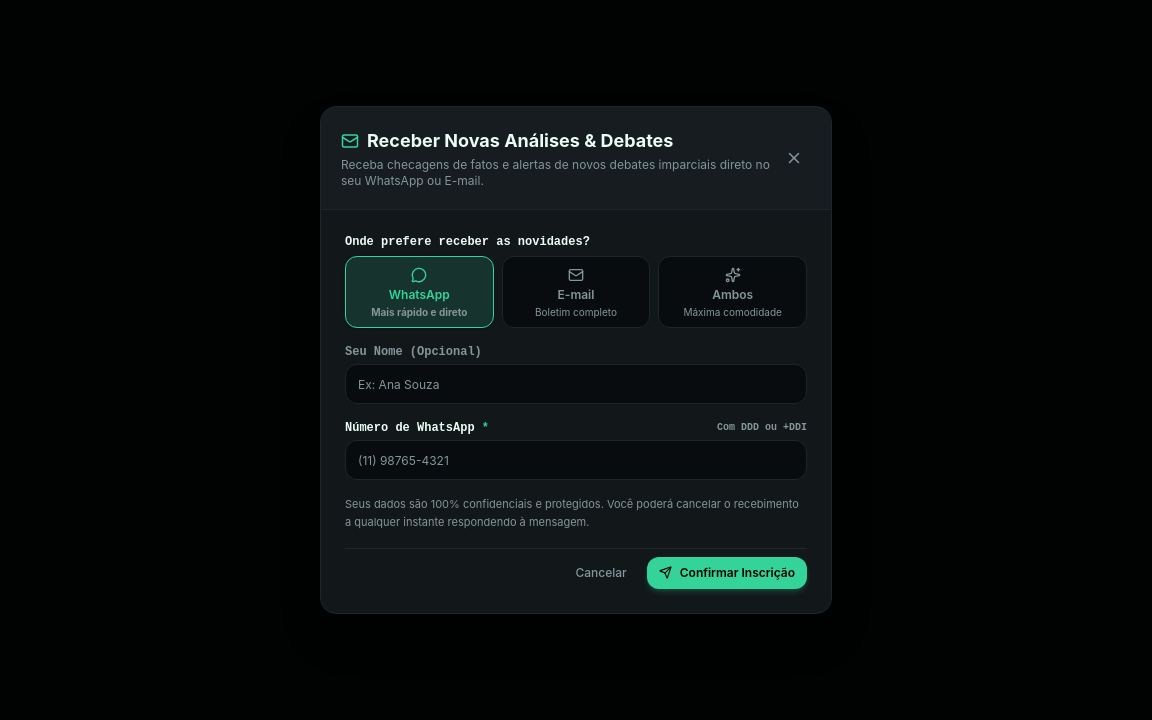
Test: NewsletterModal › submits form successfully and displays success message
Step 1. Type "11999998888" into the field with placeholder "(11) 98765-4321" → (576,460), box [345, 440, 807, 480]
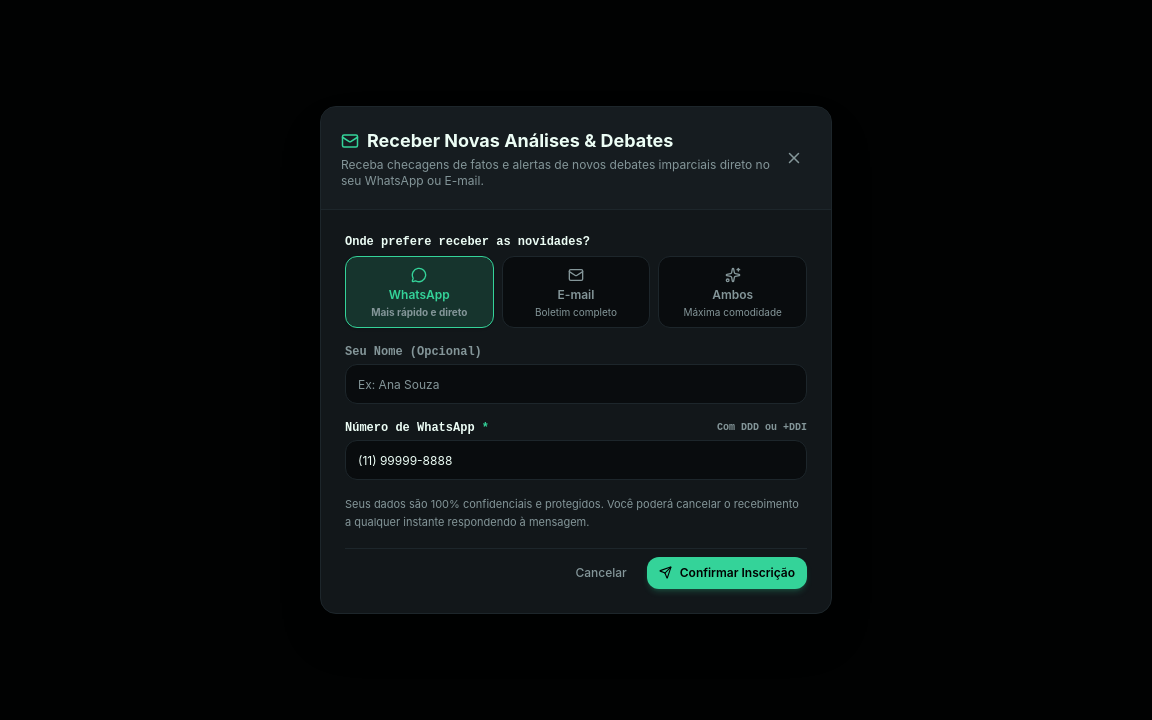
Step 2. Click the button "Confirmar Inscrição" → (727,573), box [647, 557, 807, 589]
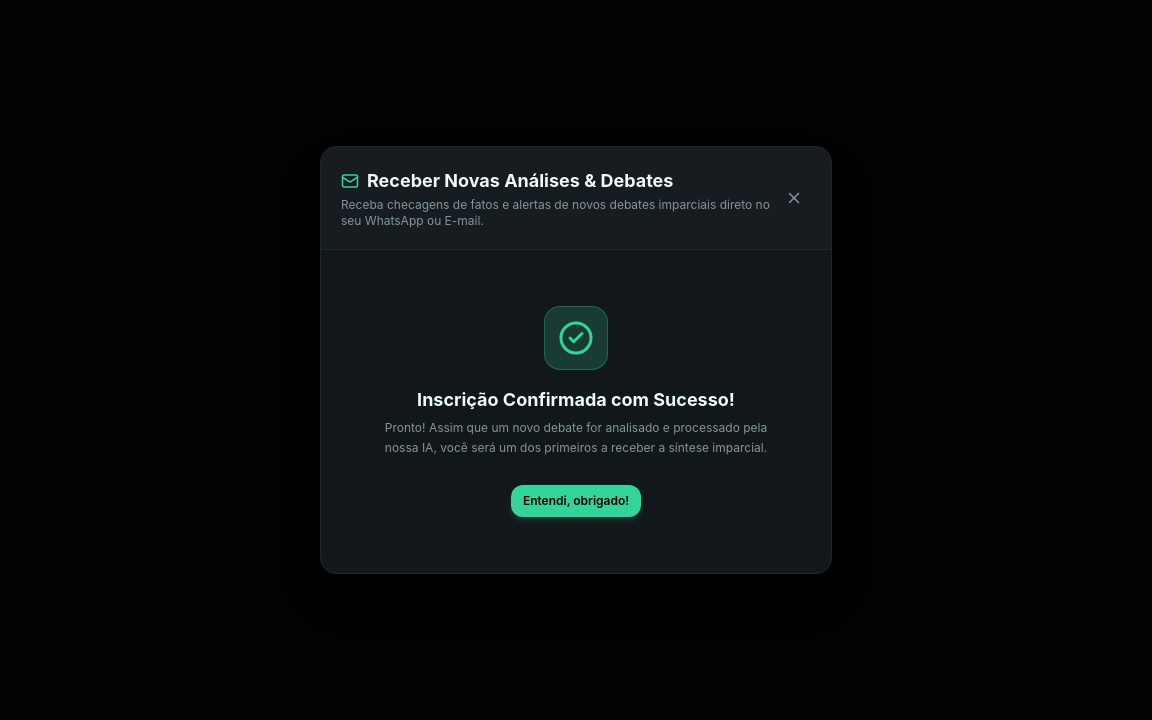
Check: the heading "Inscrição Confirmada com Sucesso!" is shown, box [417, 389, 735, 410]
